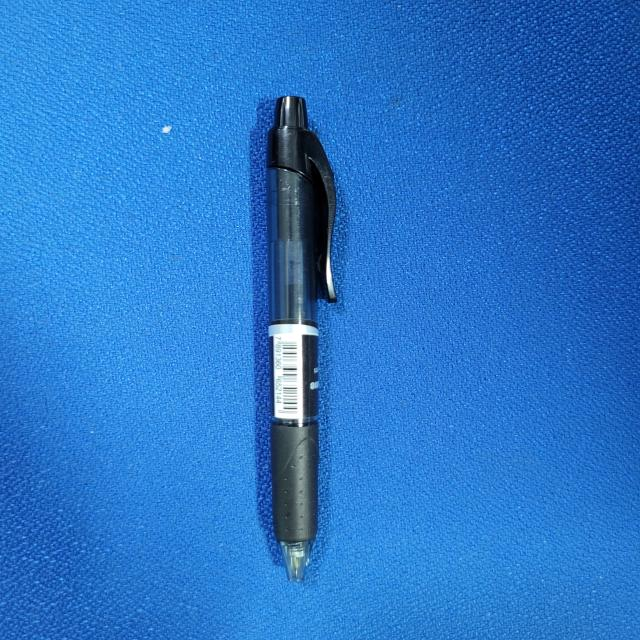caneta: (240, 81, 374, 589)
